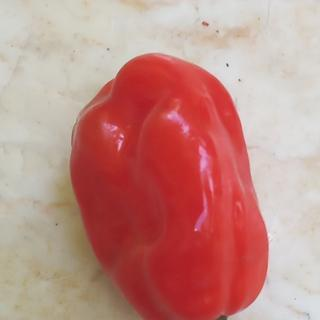Grade-A: (66, 48, 271, 317)
